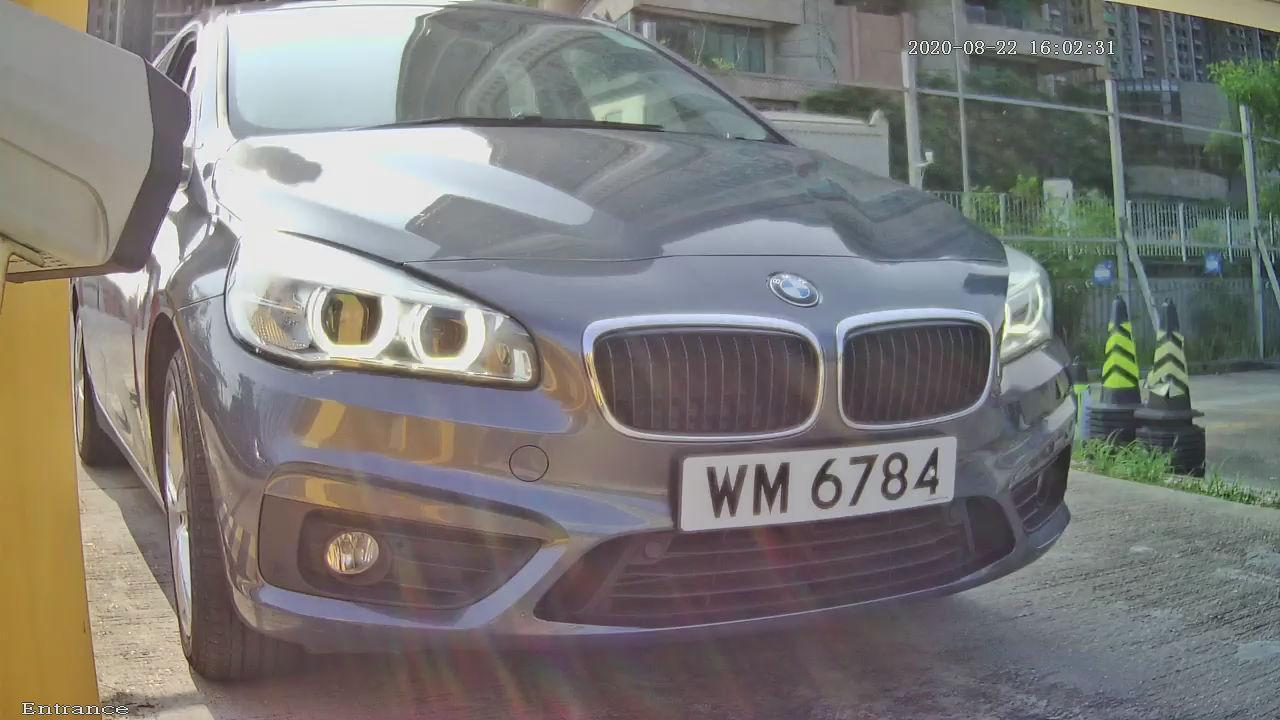Car: (18, 1, 1178, 711)
License Plate: (617, 398, 989, 552)
